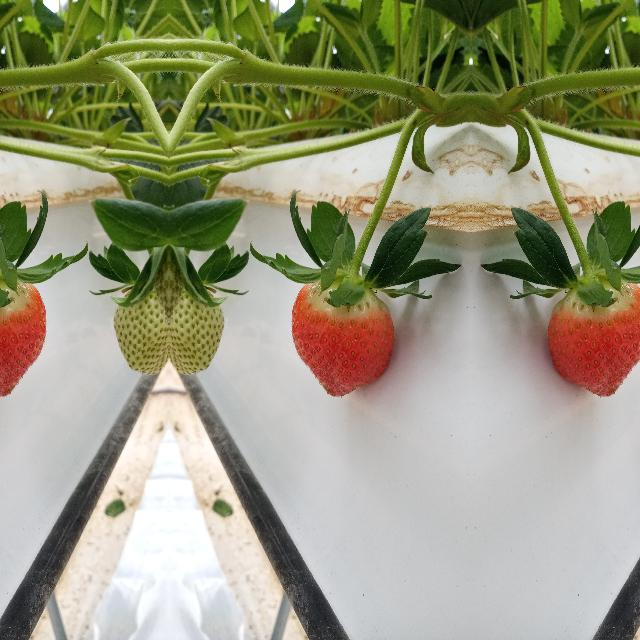Health_100: (290, 276, 394, 398), (547, 276, 640, 398), (0, 276, 46, 398)
Health_25: (168, 259, 226, 379), (110, 259, 168, 379)
